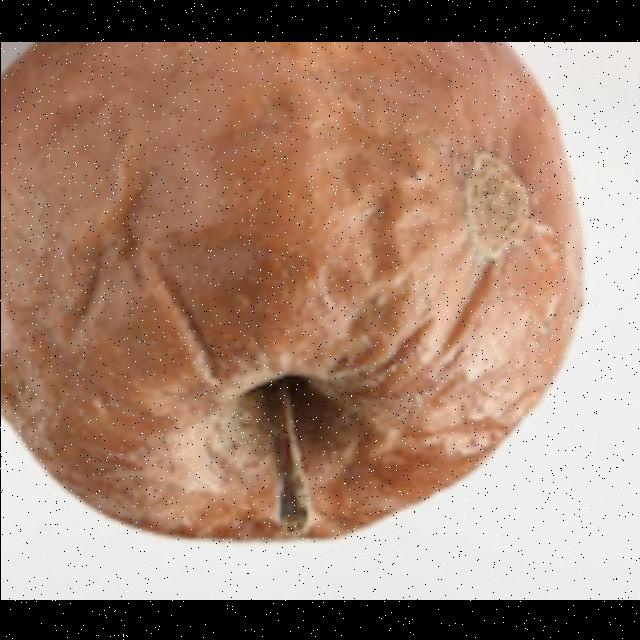Apel Tidak Segar: (0, 41, 616, 572)
